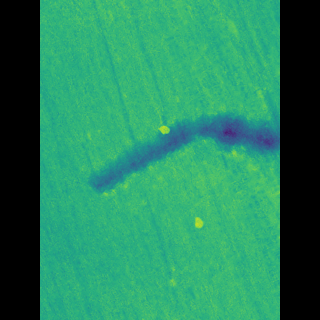Loch: (105, 82, 250, 203)
